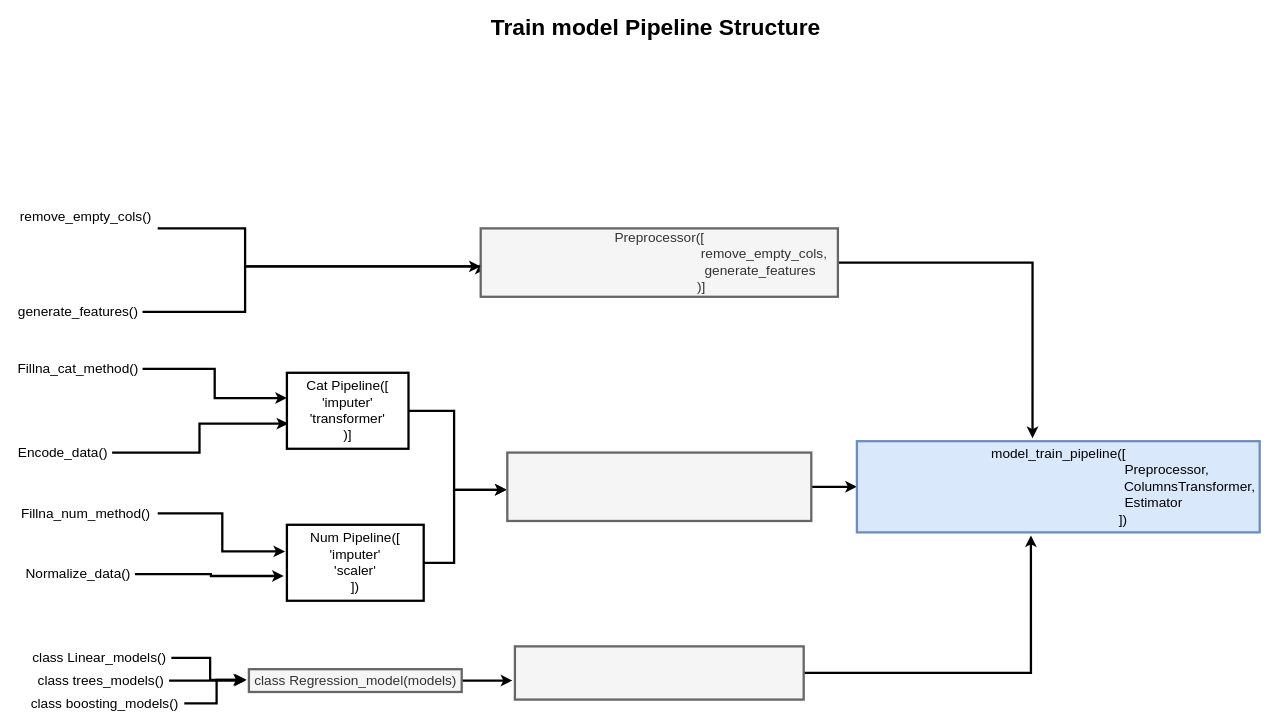
Some shapes in this 1274 by 727 pixel diagram are drawn without their labels. The centre of each missing label's shape, as x and y in pixels:
ColumnTransformer([ Cat Pipeline, Num Pipeline ]): the point at 659,486
Estimator([ regression_model )]: the point at 658,672
